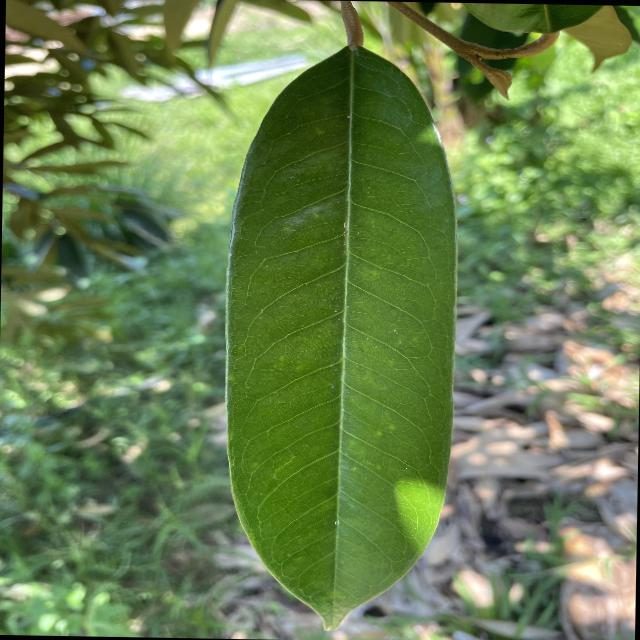No Disease: (211, 31, 467, 639)
